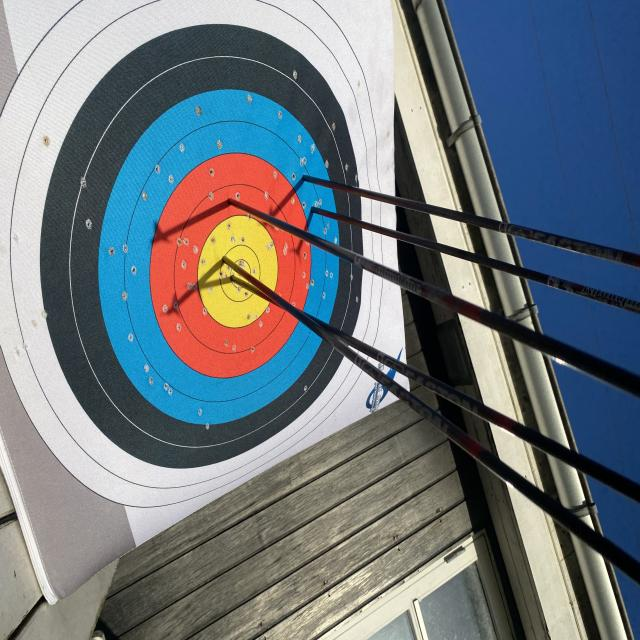Arrow_Blue: (304, 194, 331, 228), (290, 163, 321, 191)
Arrow_Red: (217, 187, 247, 218)
Arrow_Yellow: (219, 268, 244, 291), (218, 247, 235, 276)
